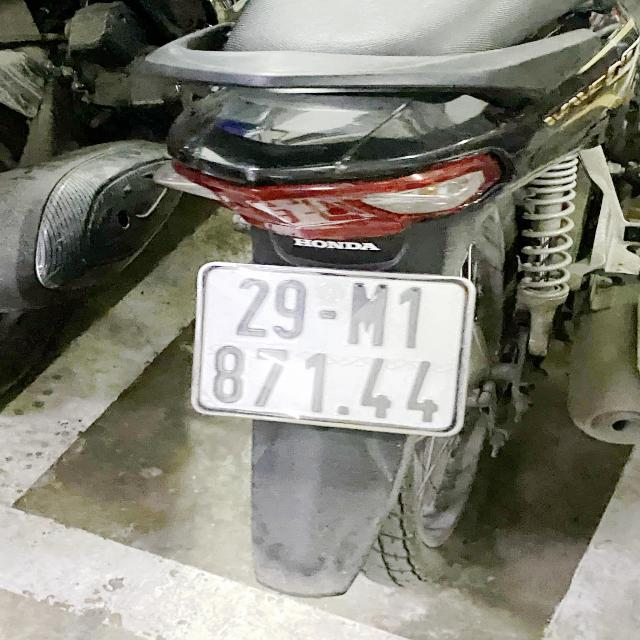license_plate: (195, 262, 476, 438)
